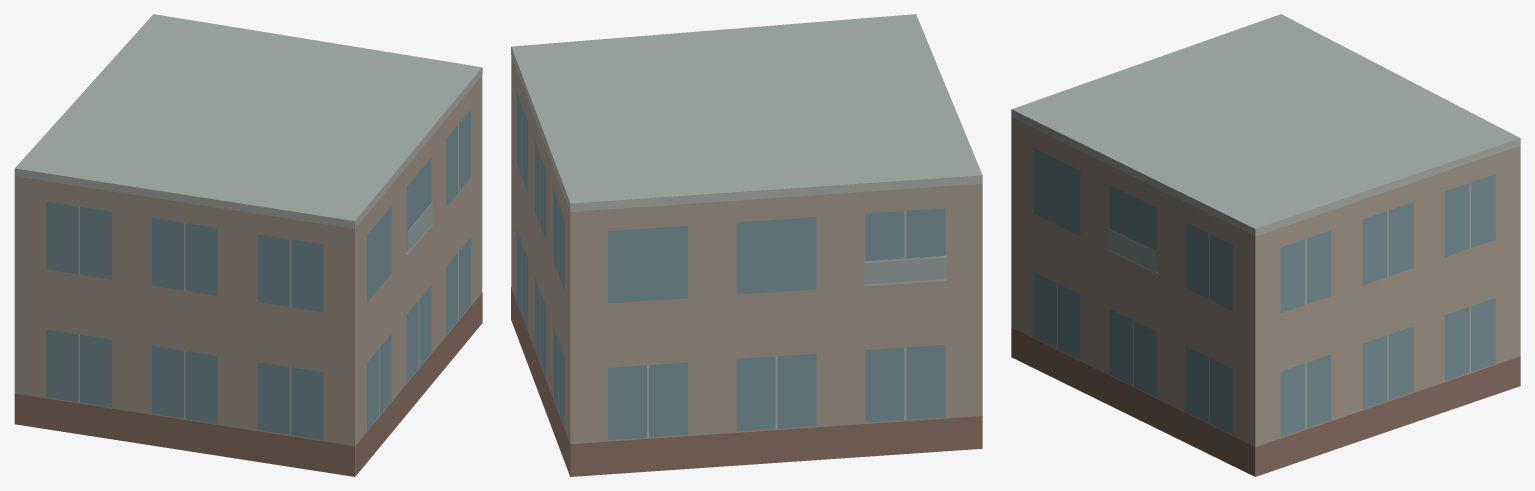
Rendered from survey-upis-32985013.glb.
3 views of the same model, side by side, from view 1: azimuth 30°, elevation 25°; view 2: azimuth 150°, elevation 25°; view 3: azimuth 270°, elevation 25° (orthographic). The views are drawn at different scales.
Visible parts, largest first — view 1: survey-upis-32985013.tmp; view 2: survey-upis-32985013.tmp; view 3: survey-upis-32985013.tmp.
Part boxes in pixels (x1,y1,x2,y2): survey-upis-32985013.tmp: (14, 14, 482, 476); survey-upis-32985013.tmp: (511, 14, 982, 476); survey-upis-32985013.tmp: (1011, 14, 1520, 476).
Size of the model in its own units: 14.79 by 7.95 by 14.8.
